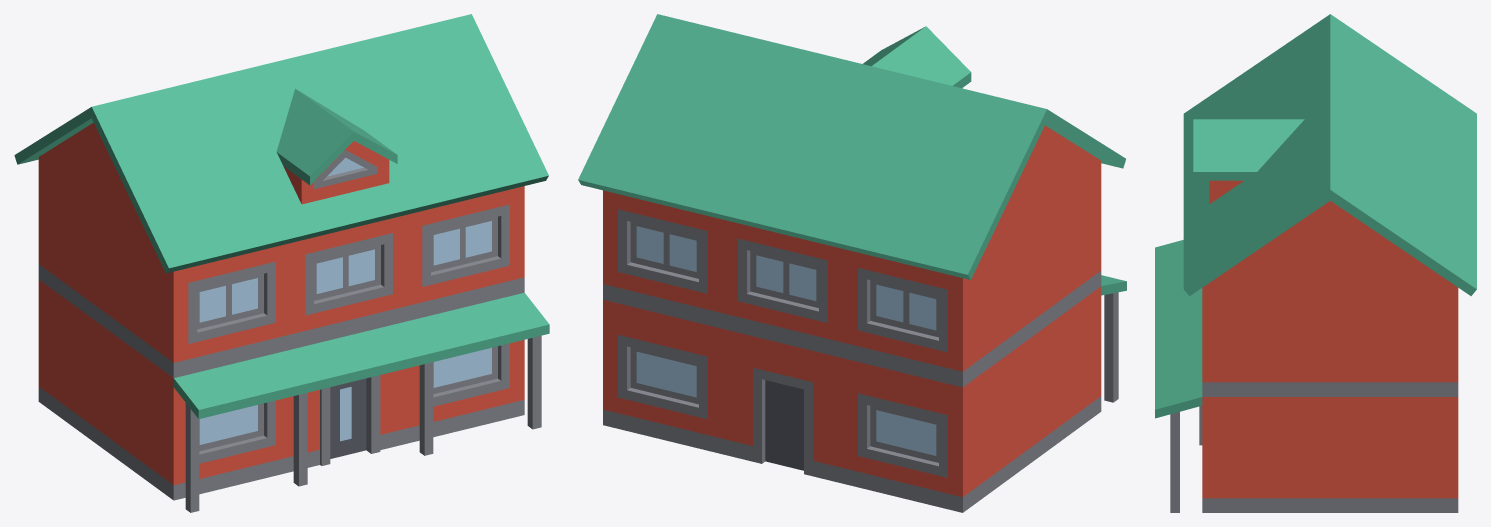
File: House Type 12.glb
The picture shows the model from 3 angles, left to right: view 1: azimuth 30°, elevation 25°; view 2: azimuth 150°, elevation 25°; view 3: azimuth 270°, elevation 25°; orthographic projection. The views are drawn at different scales.
Visible parts, largest first — view 1: house_type12; view 2: house_type12; view 3: house_type12.
Part boxes in pixels (bbox=[...]): house_type12: bbox=[14, 14, 549, 512]; house_type12: bbox=[578, 14, 1126, 512]; house_type12: bbox=[1155, 14, 1476, 512].
Size of the model in its own units: 1.3 by 1.14 by 1.01.
